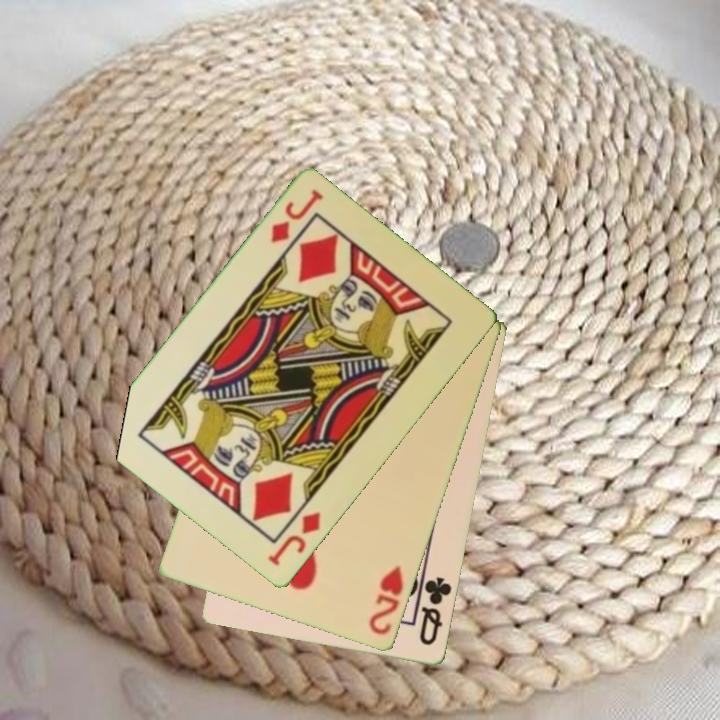2h: (365, 563, 407, 639)
Jd: (264, 509, 324, 570), (267, 186, 327, 246)
Qc: (416, 573, 455, 649)
